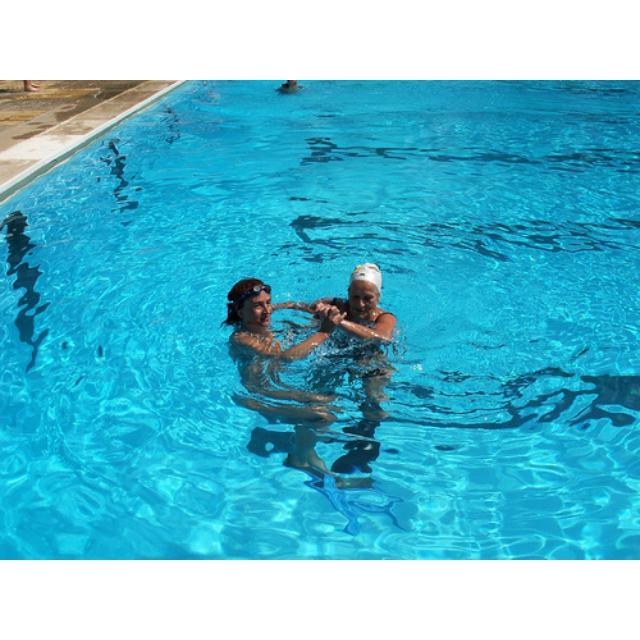human: (223, 275, 319, 400), (315, 264, 395, 379)
